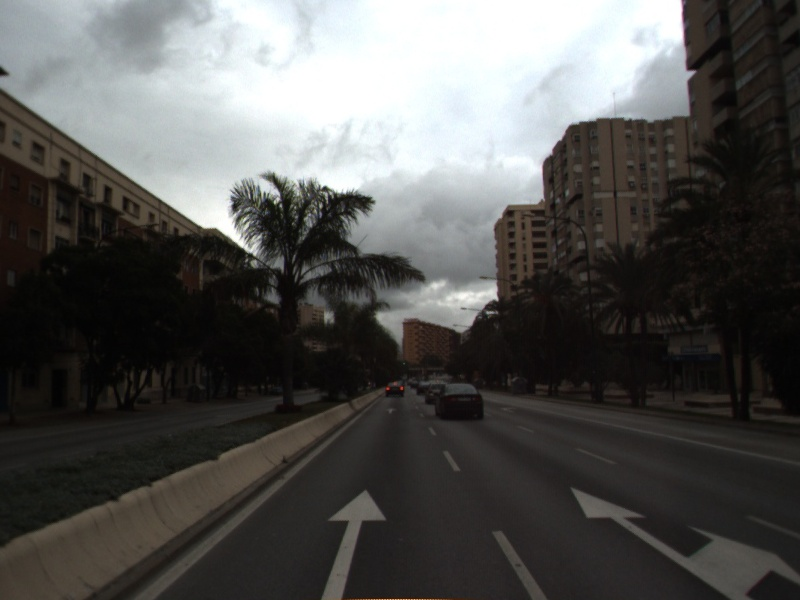RIGHT: (499, 405, 519, 415)
STRAIGHT: (317, 486, 390, 600), (384, 406, 399, 415)
STRAIGHT_RIGHT: (568, 485, 800, 600)
